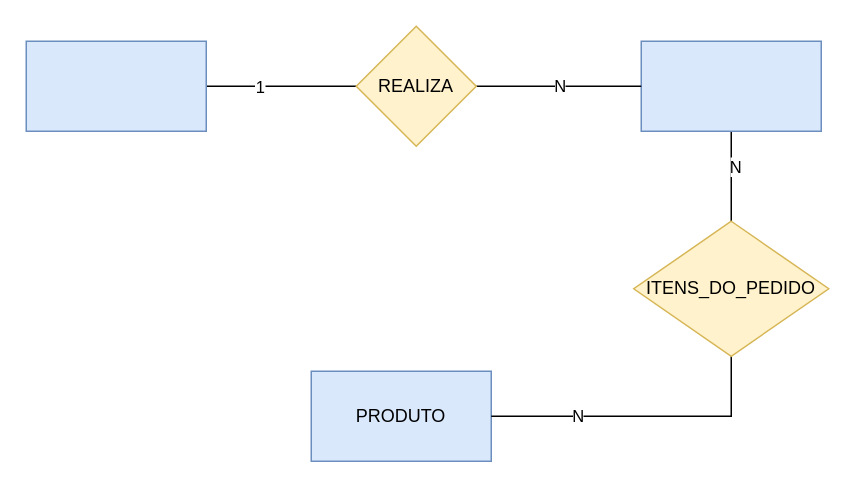
Image size: 855x488. Some labels were removed from this diagram. The centre of each missing label's shape, as x and y in pixels:
"CLIENTE" goes at pixel 115 85.
"PEDIDO" goes at pixel 730 85.
